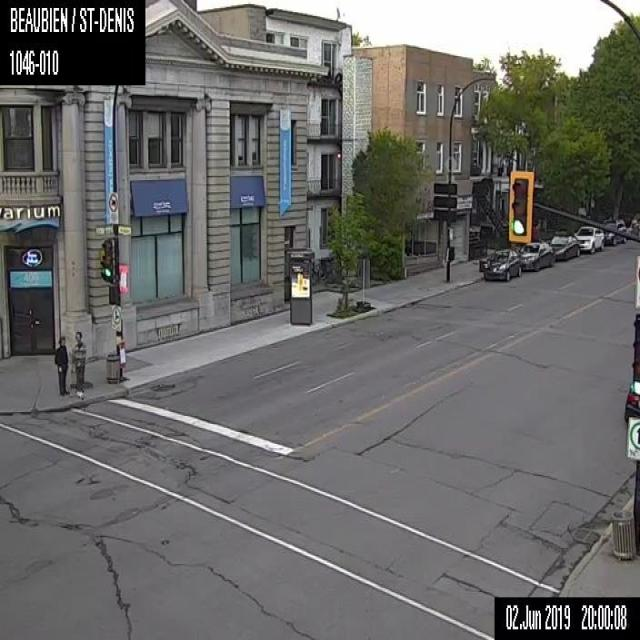pedestrian: (70, 330, 86, 396), (53, 333, 69, 395)
vehicle: (483, 248, 520, 281), (518, 240, 554, 271), (574, 225, 604, 254), (550, 234, 580, 260), (601, 218, 626, 245), (623, 384, 639, 424)
